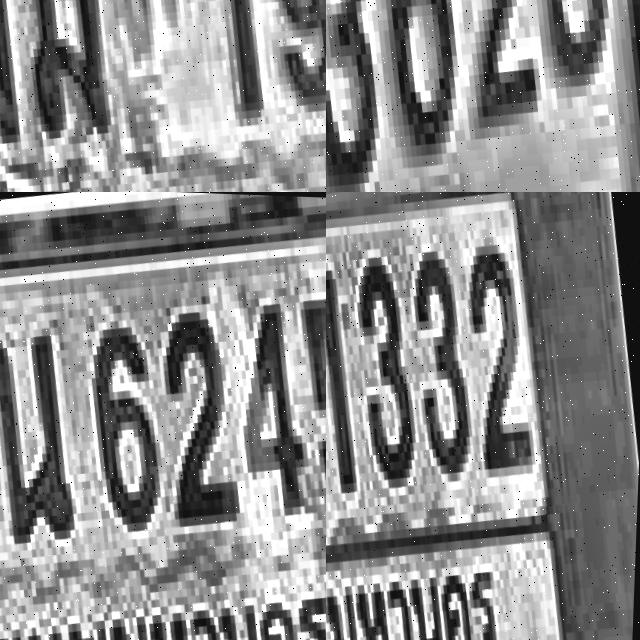license-plate: (0, 192, 326, 640), (326, 192, 640, 640), (0, 0, 326, 192), (326, 0, 640, 192)
